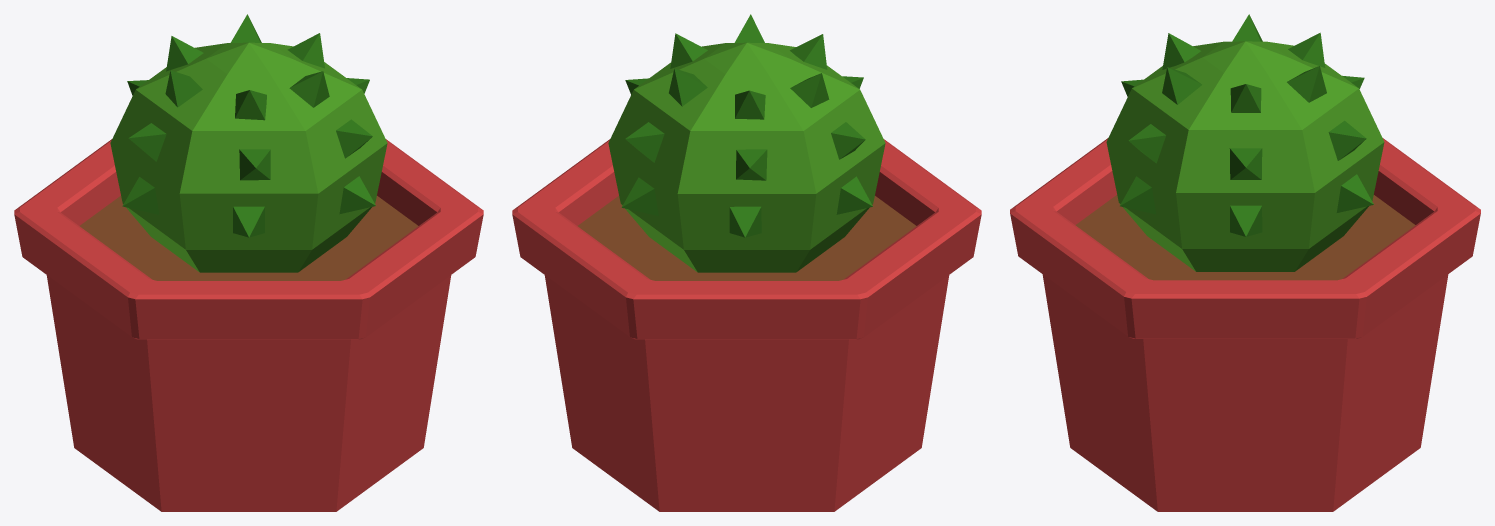
File: Cactus2.fbx
The picture shows the model from 3 angles, left to right: view 1: azimuth 30°, elevation 25°; view 2: azimuth 150°, elevation 25°; view 3: azimuth 270°, elevation 25°; orthographic projection.
Visible parts, largest first — view 1: Cube.8159; view 2: Cube.8159; view 3: Cube.8159.
Boxes of the visible parts, <box> form: Cube.8159: <box>14,14,483,511</box>; Cube.8159: <box>512,14,981,511</box>; Cube.8159: <box>1010,14,1480,511</box>.
Bounding box in the file's own units: 40.51 × 44.08 × 46.28.
Materials: 1 (1 with a texture image).
